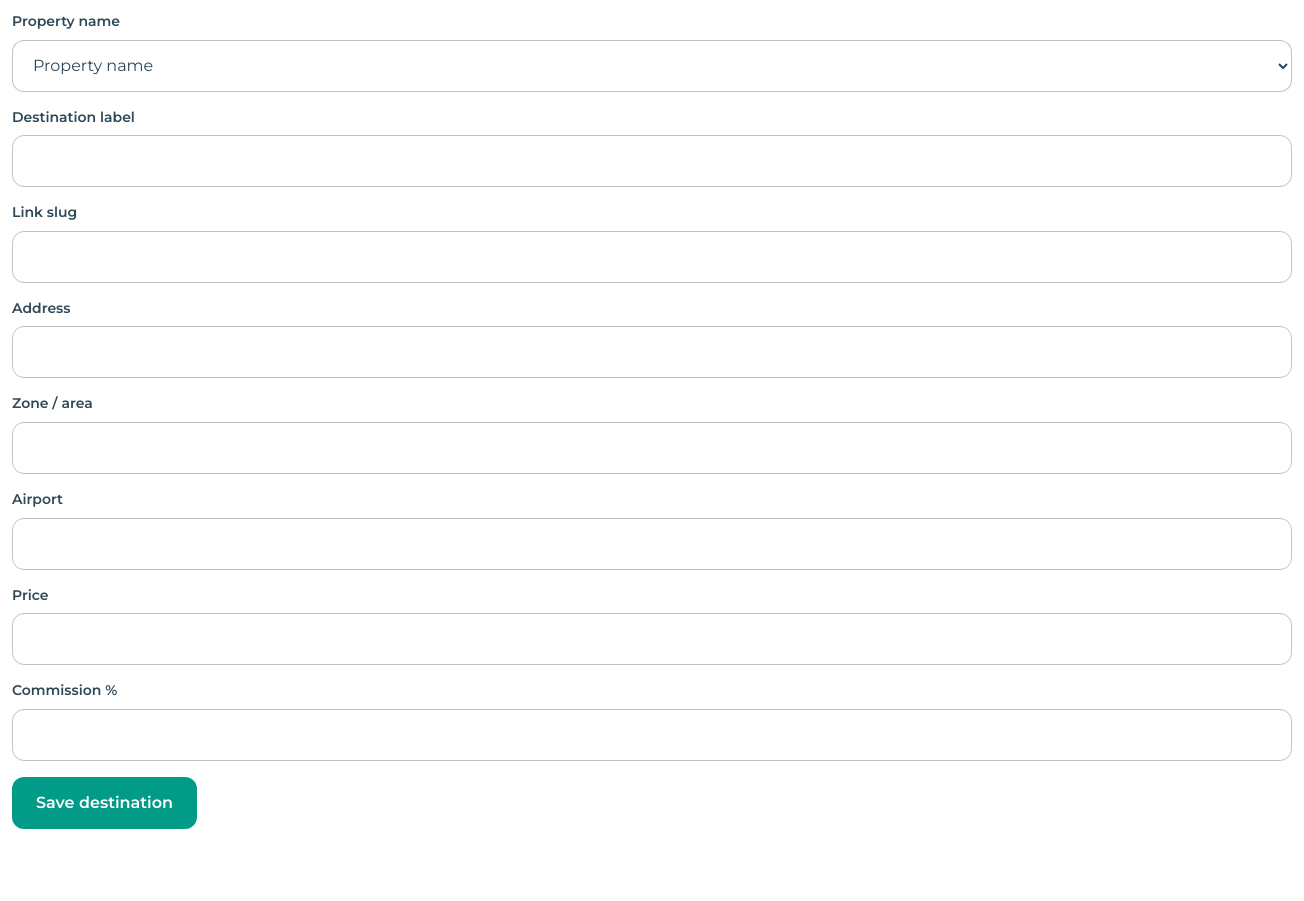
destination "you keep" panel (D-06) › recomputes live from price + commission and updates on change
Type "100.00" into the field labelled "Price" at coordinates (652, 639), box x1=12 y1=613 x2=1292 y2=665
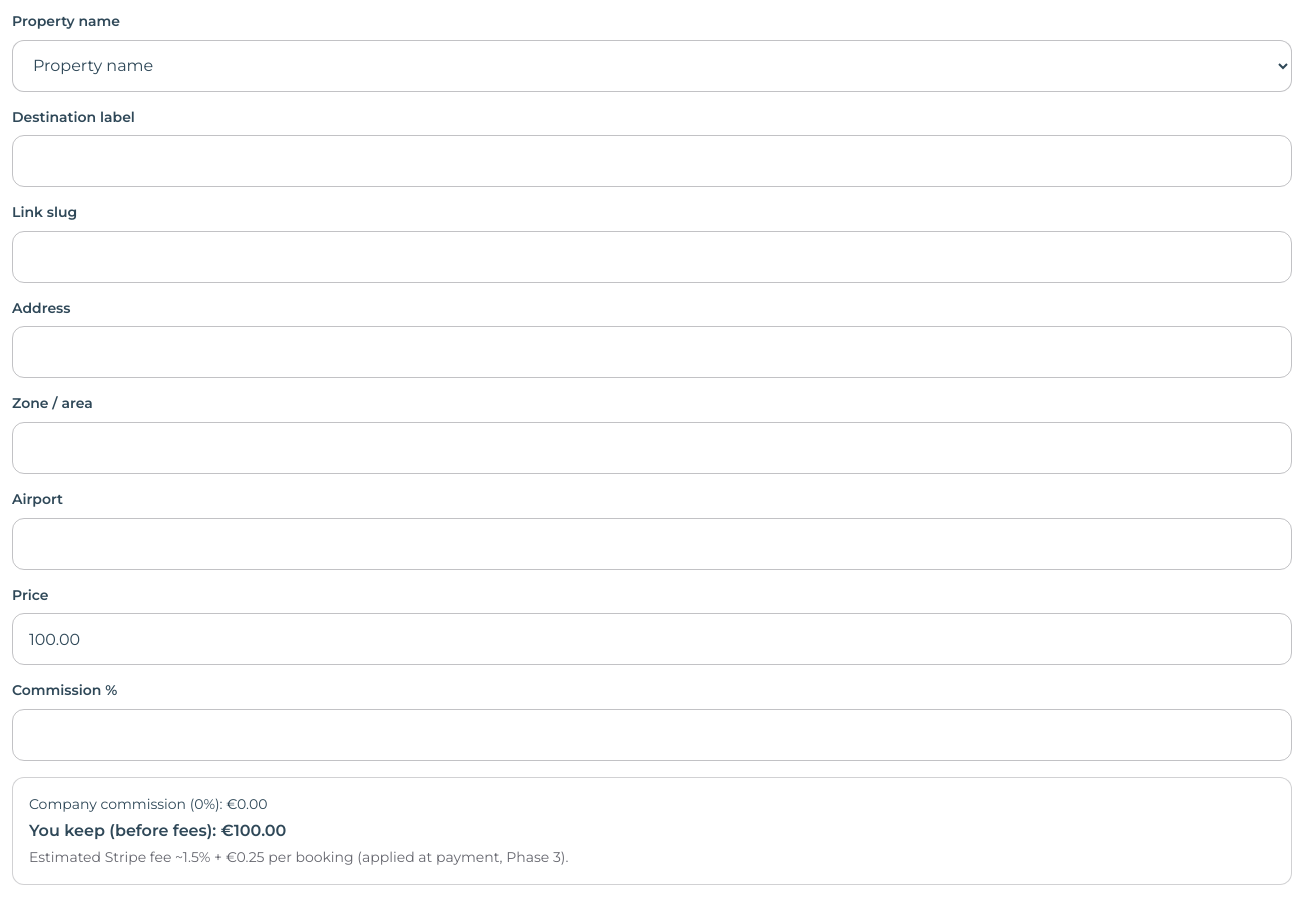
Type "15" into the field labelled "Commission %" at coordinates (652, 735), box x1=12 y1=709 x2=1292 y2=761
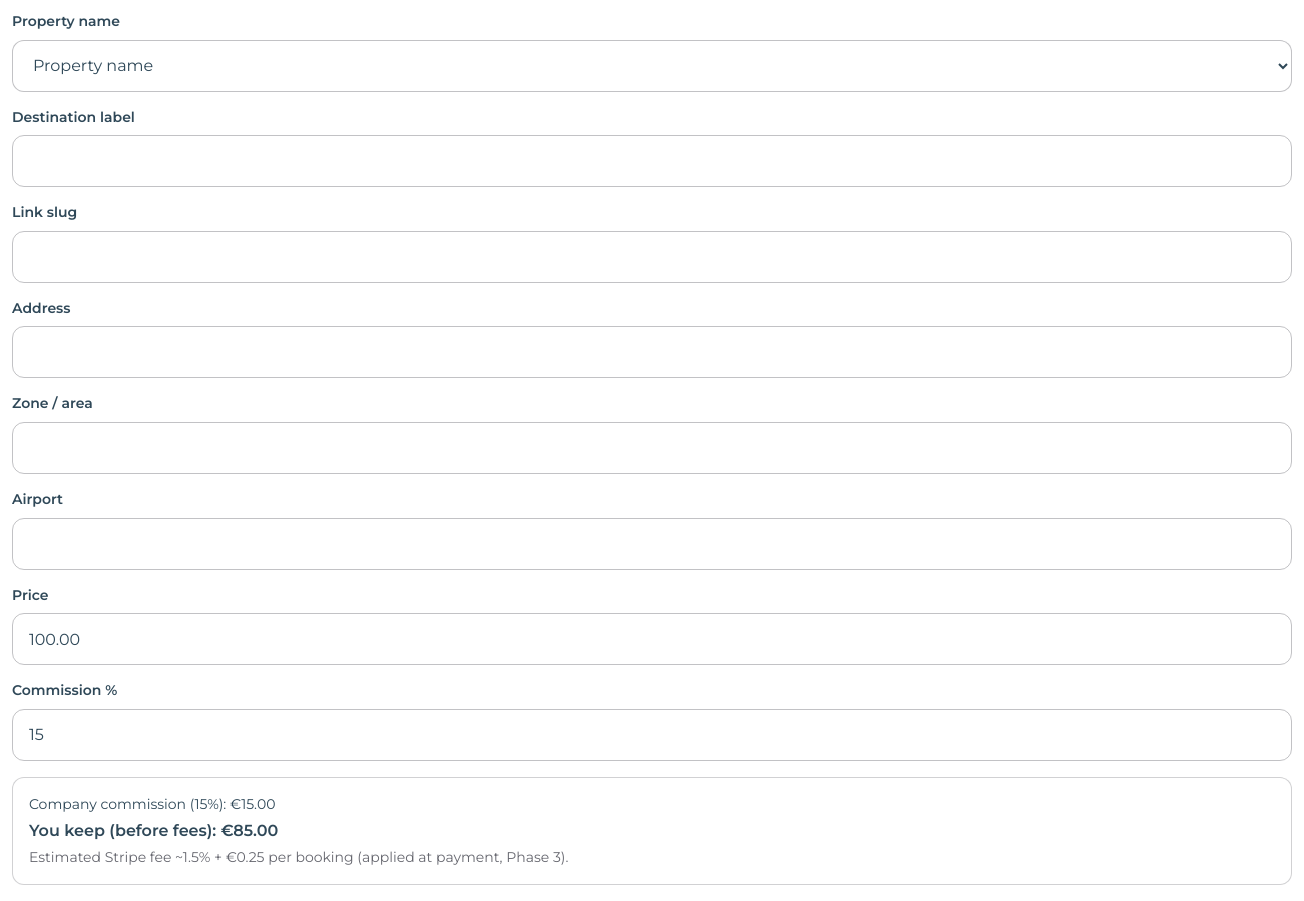
Expected: the text with test id "you-keep-fee-note" shows "~1.5% + €0.25", x1=29 y1=848 x2=568 y2=866
Expected: the text with test id "you-keep-commission" reads "Company commission (15%): €15.00", x1=29 y1=795 x2=276 y2=813
Expected: the text with test id "you-keep-net" reads "You keep (before fees): €85.00", x1=29 y1=821 x2=278 y2=840
# Change the inputs → live recompute (€200.00 + 10% → €20.00 / €180.00).
Replace the text in the field labelled "Price" with "200.00" at coordinates (652, 639), box x1=12 y1=613 x2=1292 y2=665
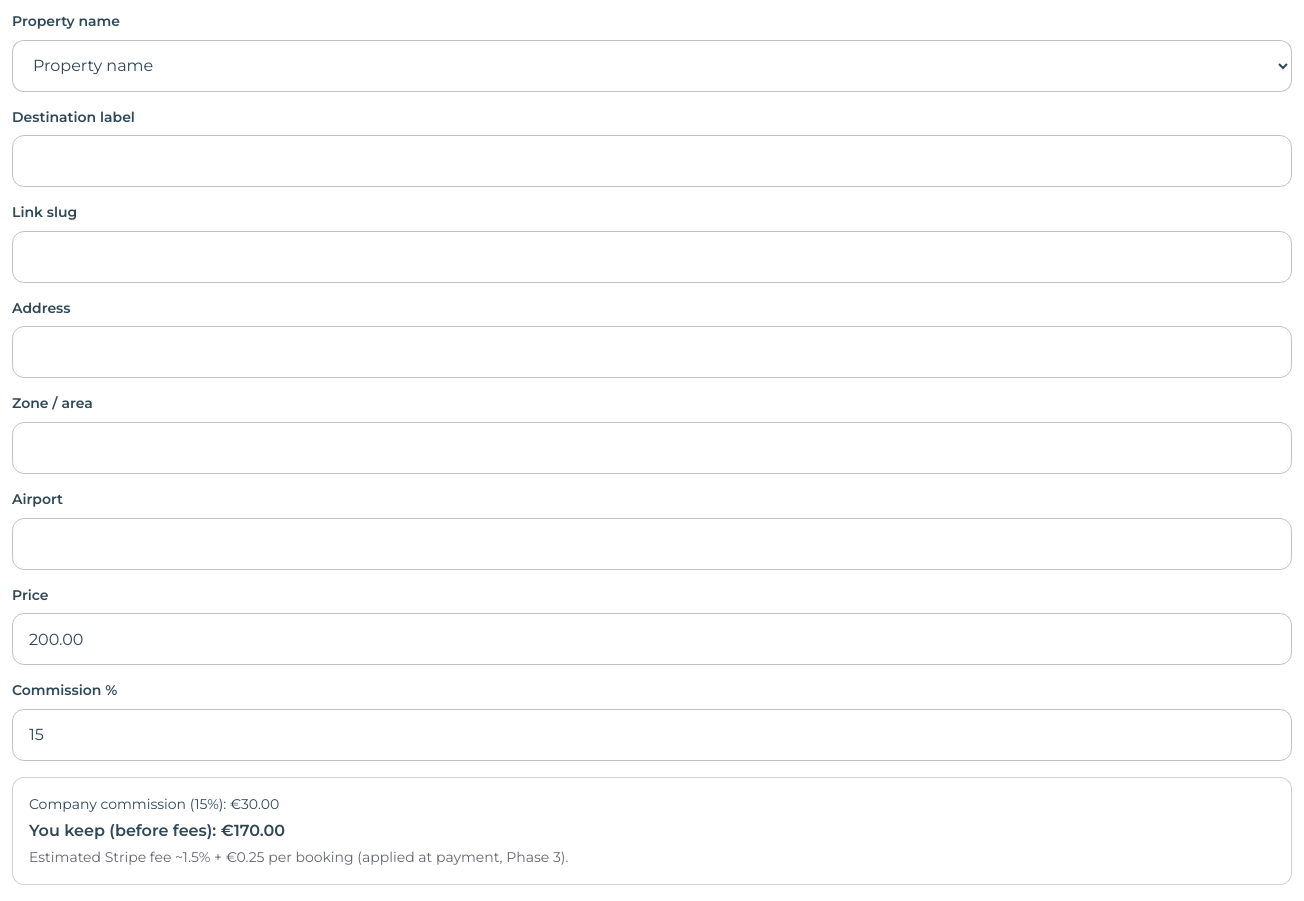
Replace the text in the field labelled "Commission %" with "10" at coordinates (652, 735), box x1=12 y1=709 x2=1292 y2=761
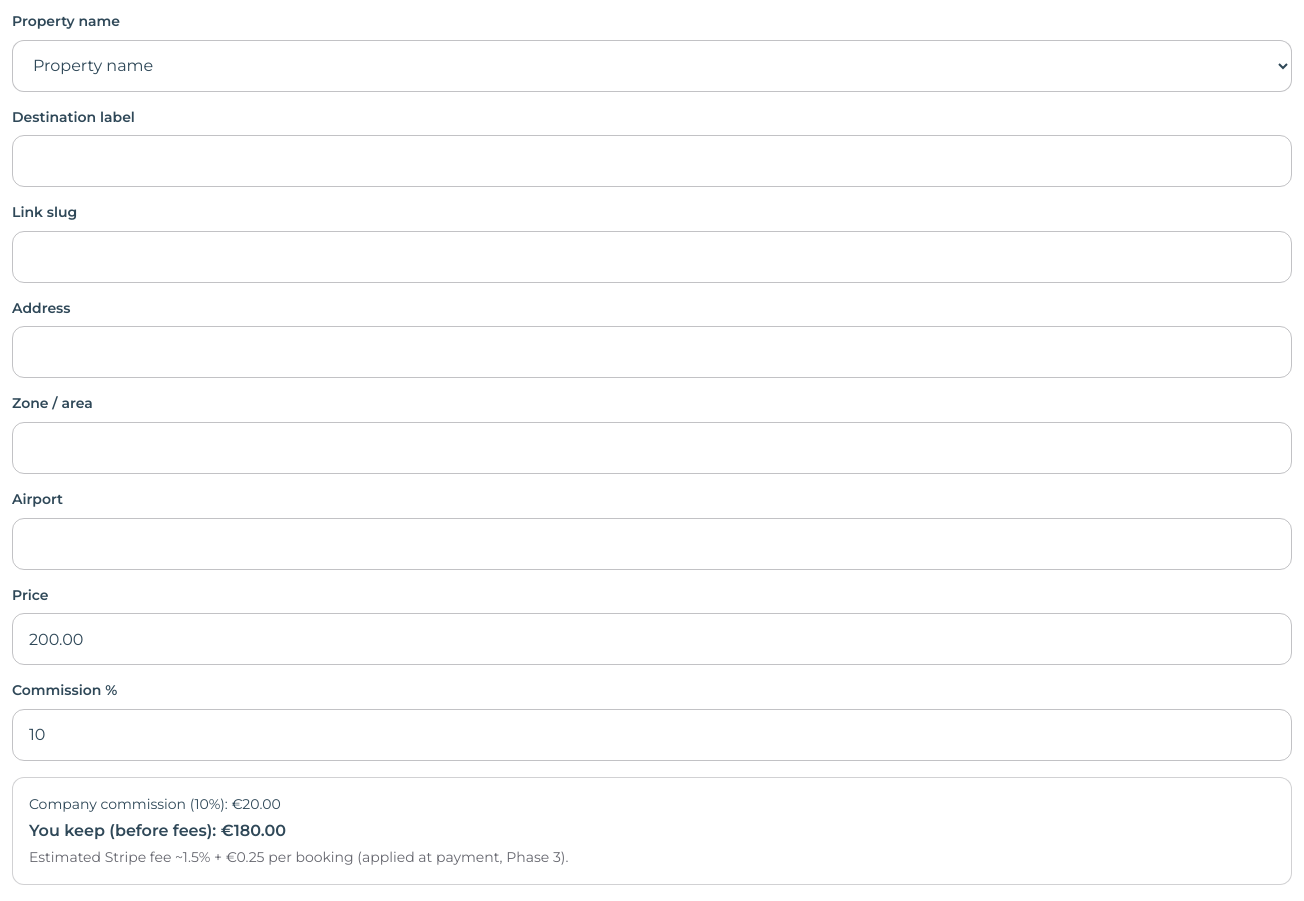
Expected: the text with test id "you-keep-commission" reads "Company commission (10%): €20.00", x1=29 y1=795 x2=281 y2=813
Expected: the text with test id "you-keep-net" reads "You keep (before fees): €180.00", x1=29 y1=821 x2=286 y2=840
